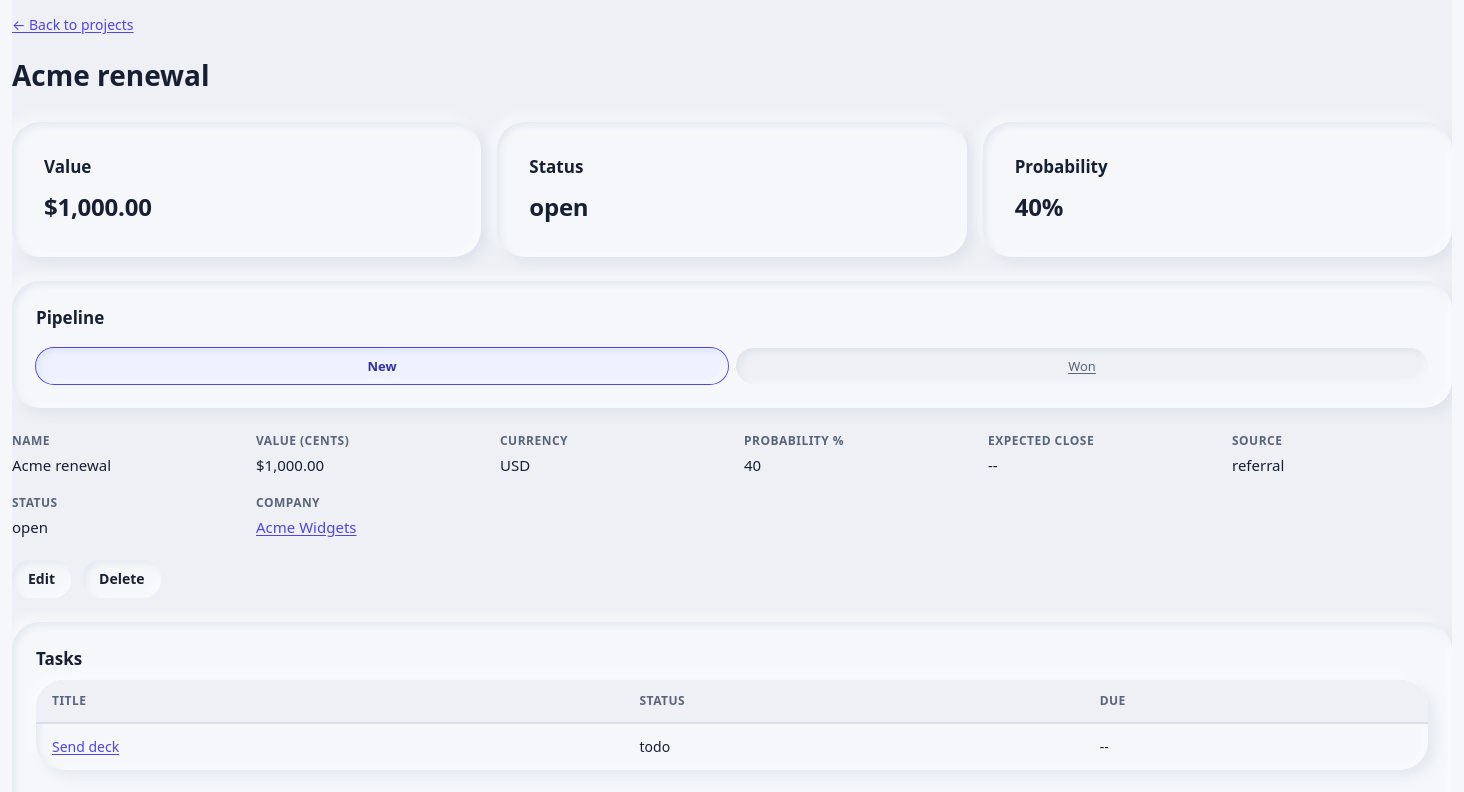
Test: ProjectDetail page › edits fields inline and saves
Expected: the heading "Acme renewal" is shown, [12,56,210,94]
Click the button "Edit" at (42, 578), box [12,560,71,598]
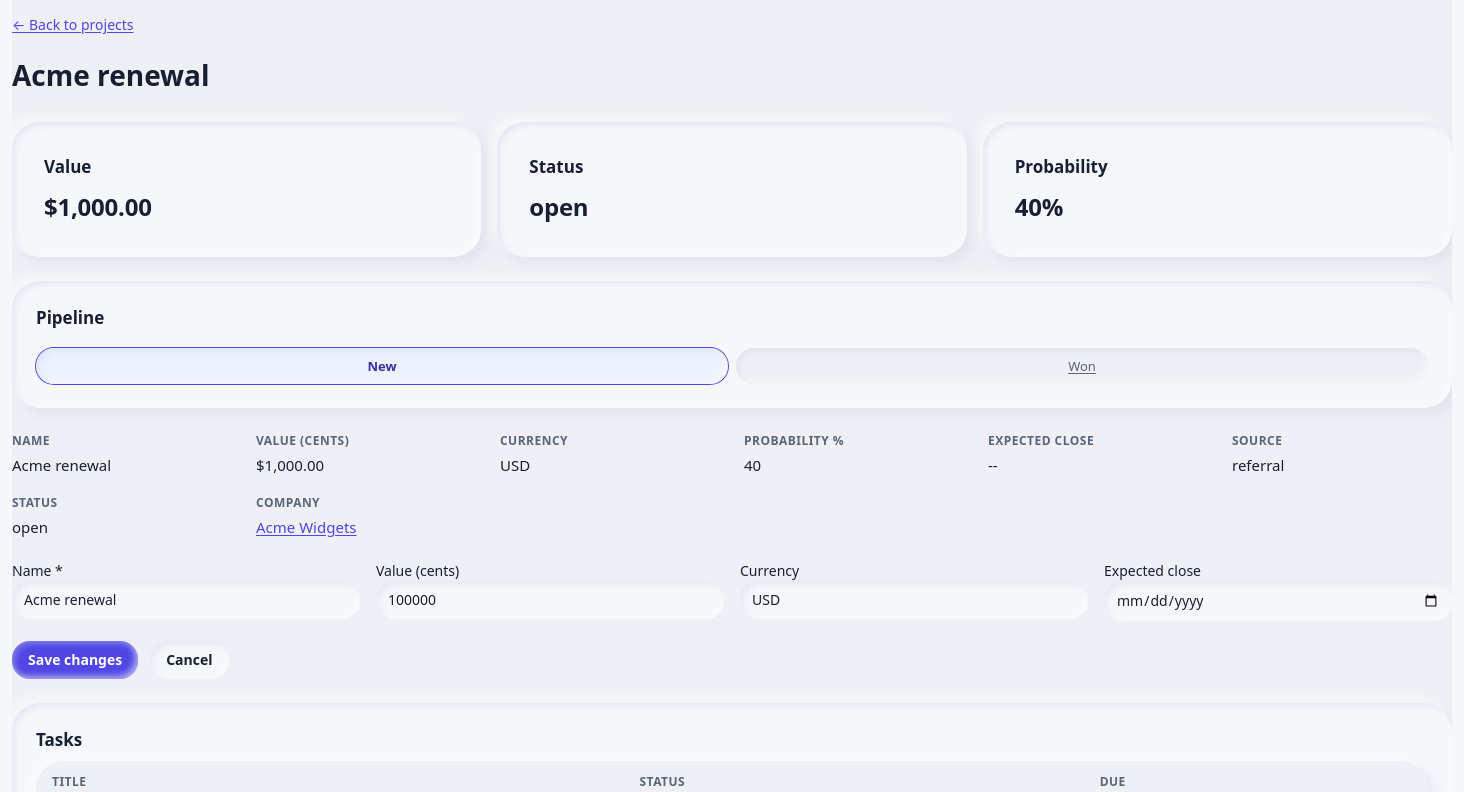
Clear the field labelled "Name *" at (186, 600), box [12,581,360,619]
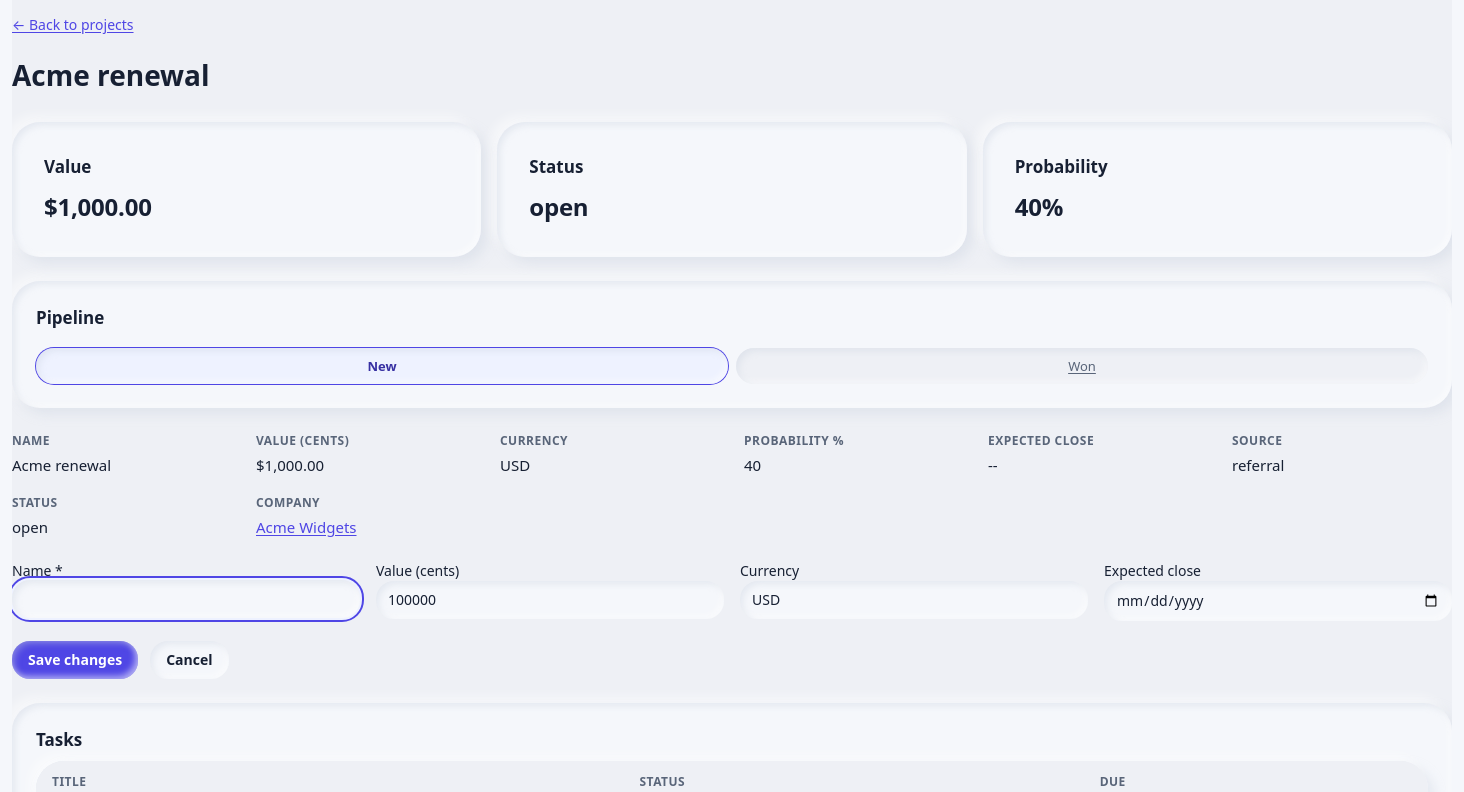
Type "Acme expansion" into the field labelled "Name *" at (186, 599), box [12,580,360,618]
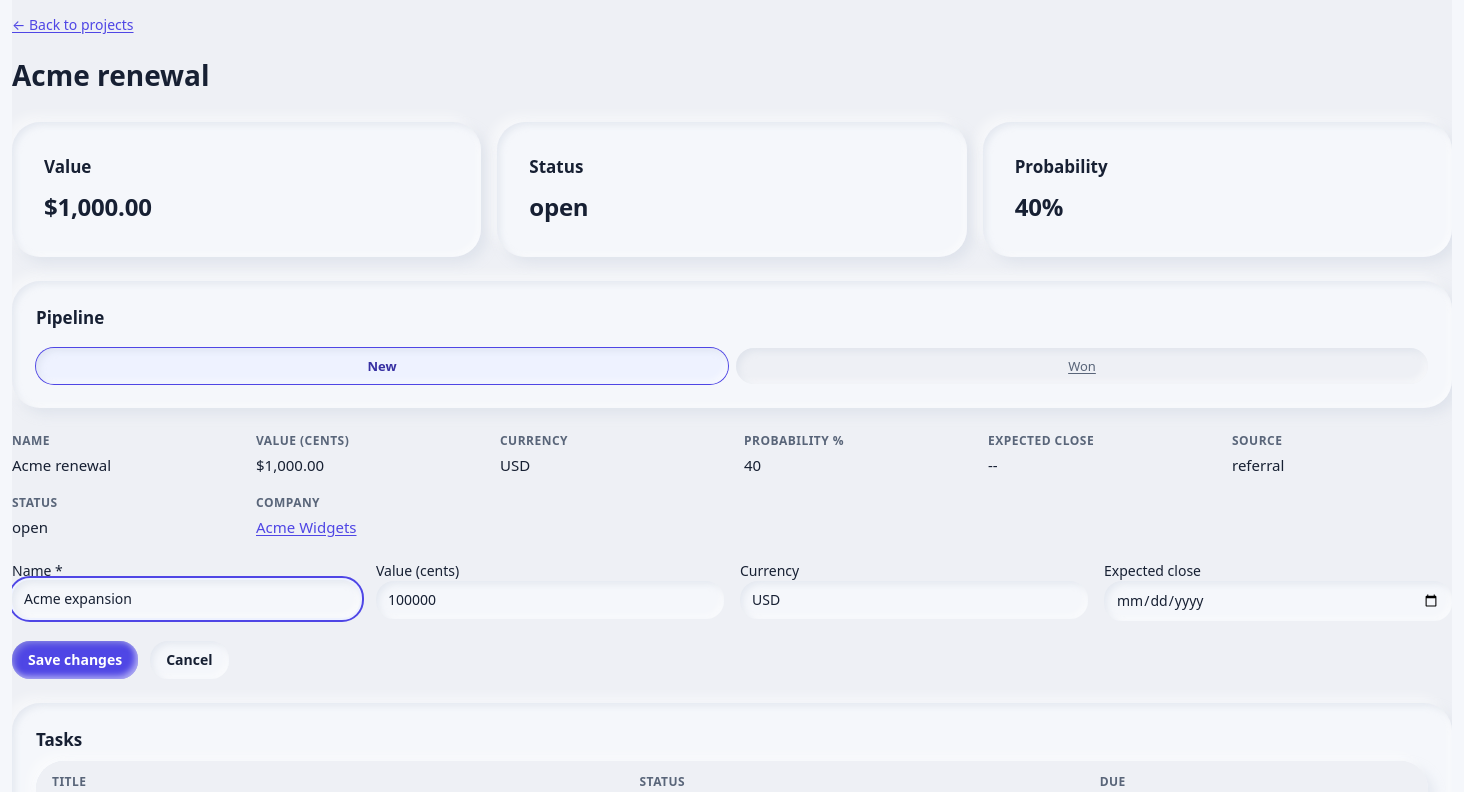
Click the button "Save changes" at (75, 660), box [12,641,138,679]
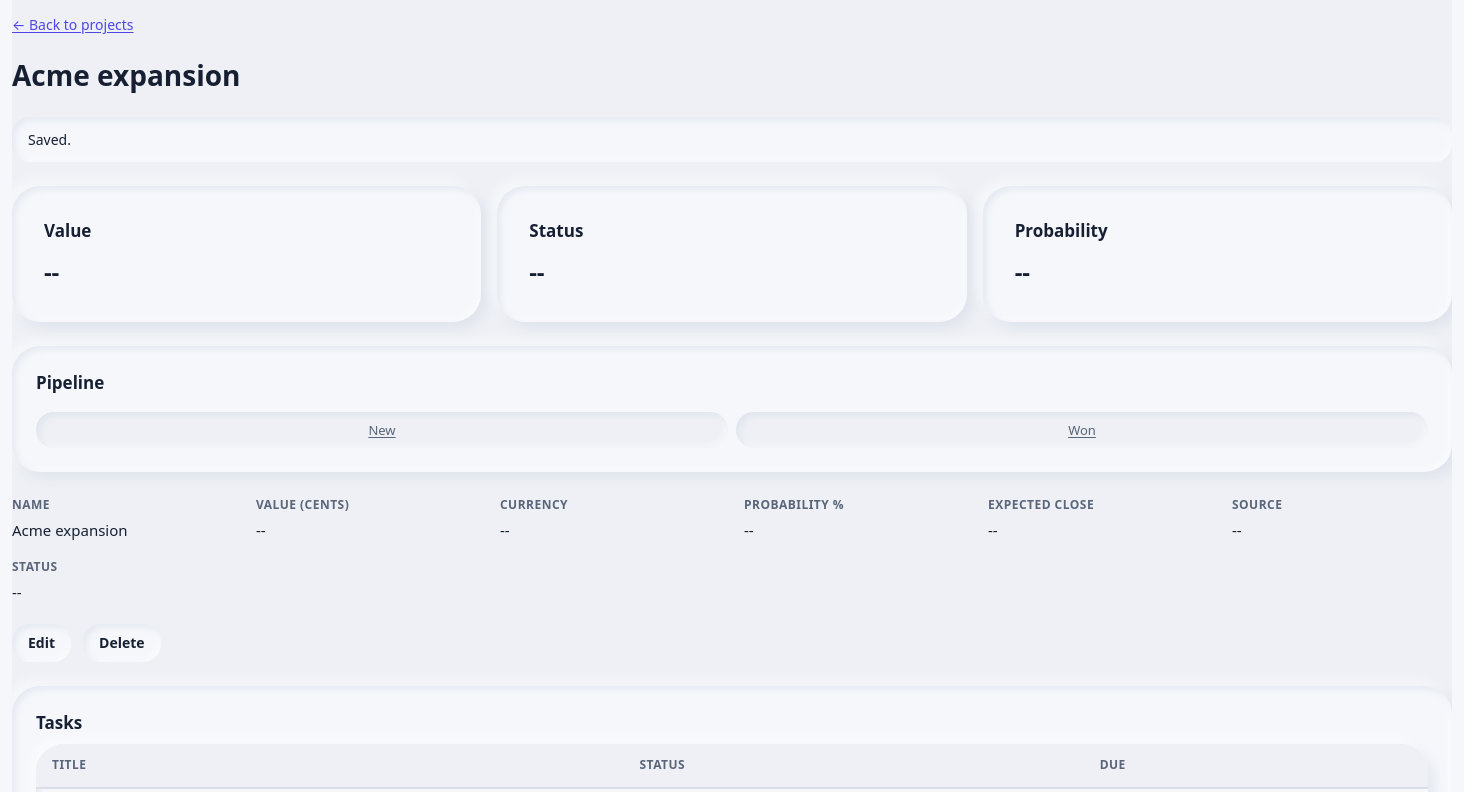
Result: the text "Saved." is shown at [12,117,1452,162]
